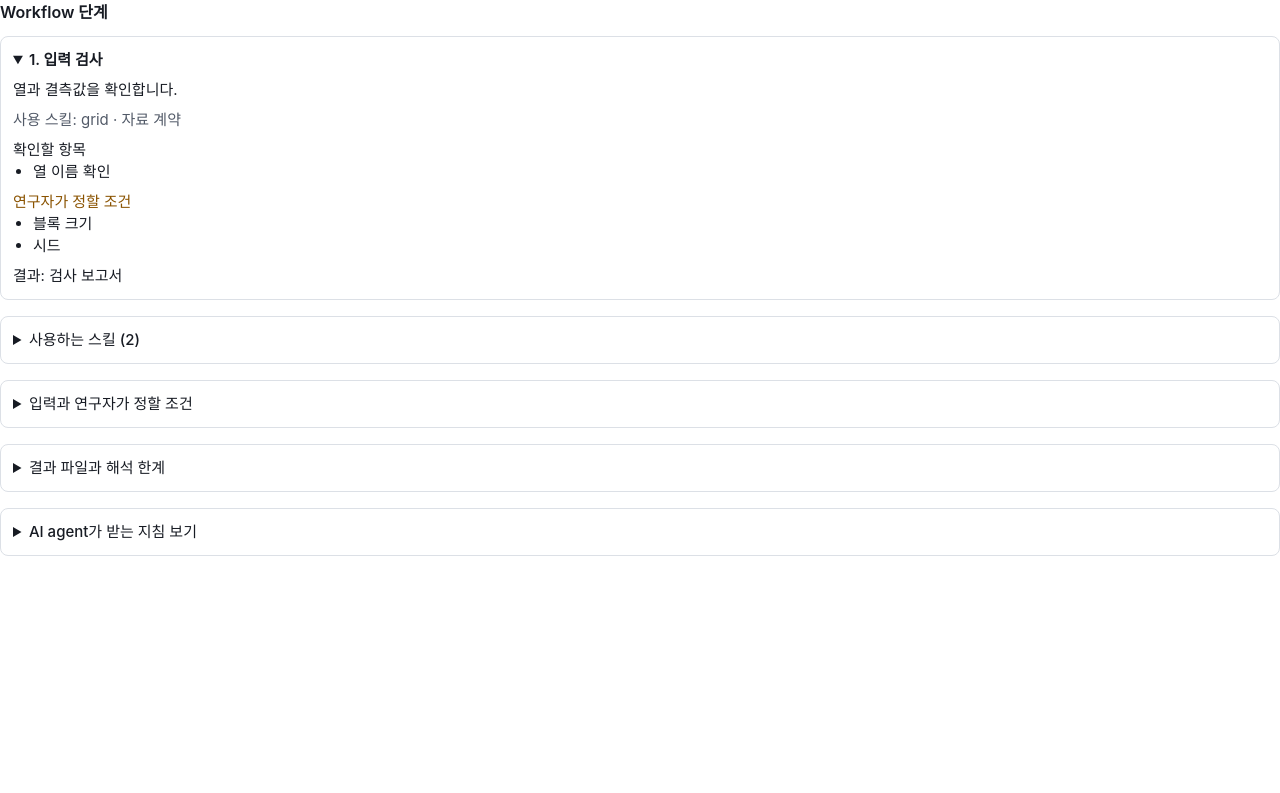
Scenario: shows all steps, skills with sources, choice options and output files; reads the bundled instructions on request
The width and height of the screenshot is (1280, 793).
Expected: the heading "1. 입력 검사" is shown, [29, 50, 102, 69]
Expected: the list item "열 이름 확인" is shown, [33, 162, 110, 181]
Click the heading "사용하는 스킬 (2)".
click(84, 340)  # box [29, 330, 140, 349]
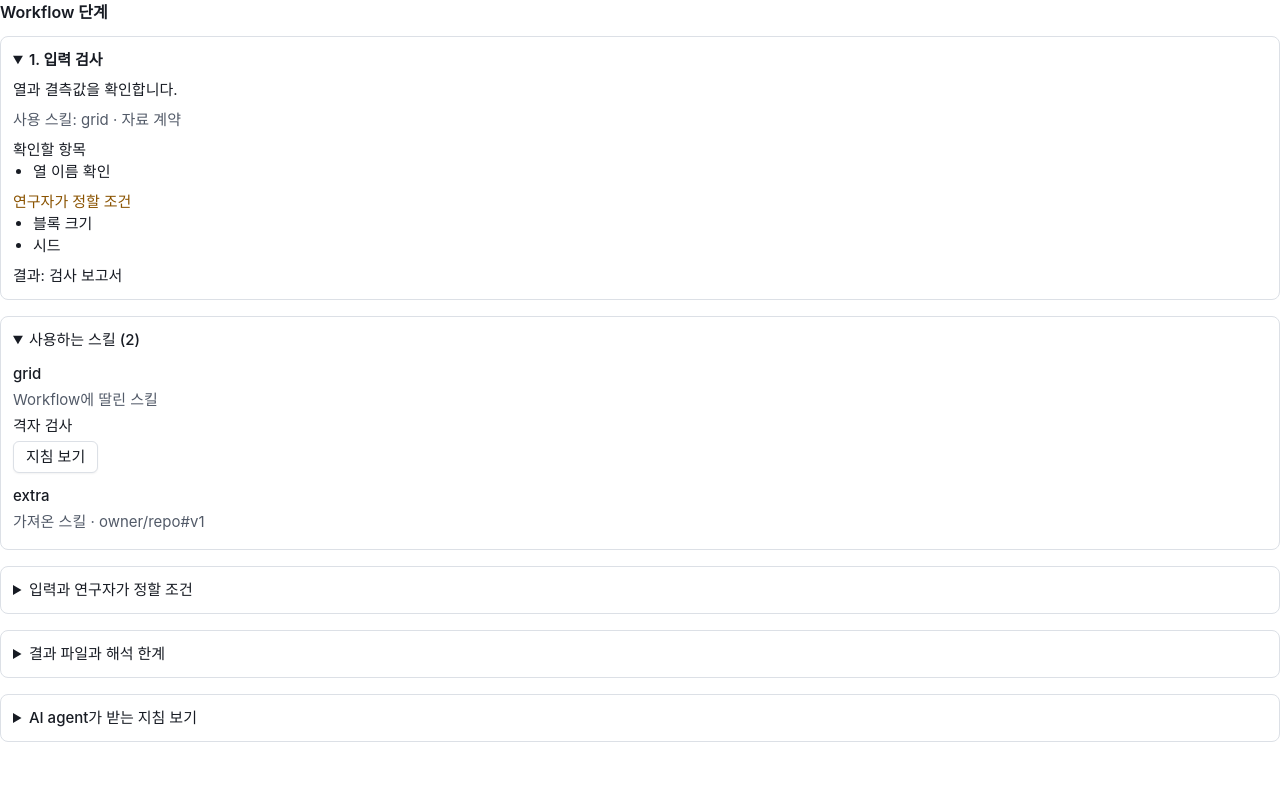
Expected: the text "Workflow에 딸린 스킬" is shown, [13, 390, 158, 409]
Expected: the text "가져온 스킬 · owner/repo#v1" is shown, [13, 512, 204, 531]
Click the button "지침 보기".
click(56, 457)  # box [13, 441, 98, 473]
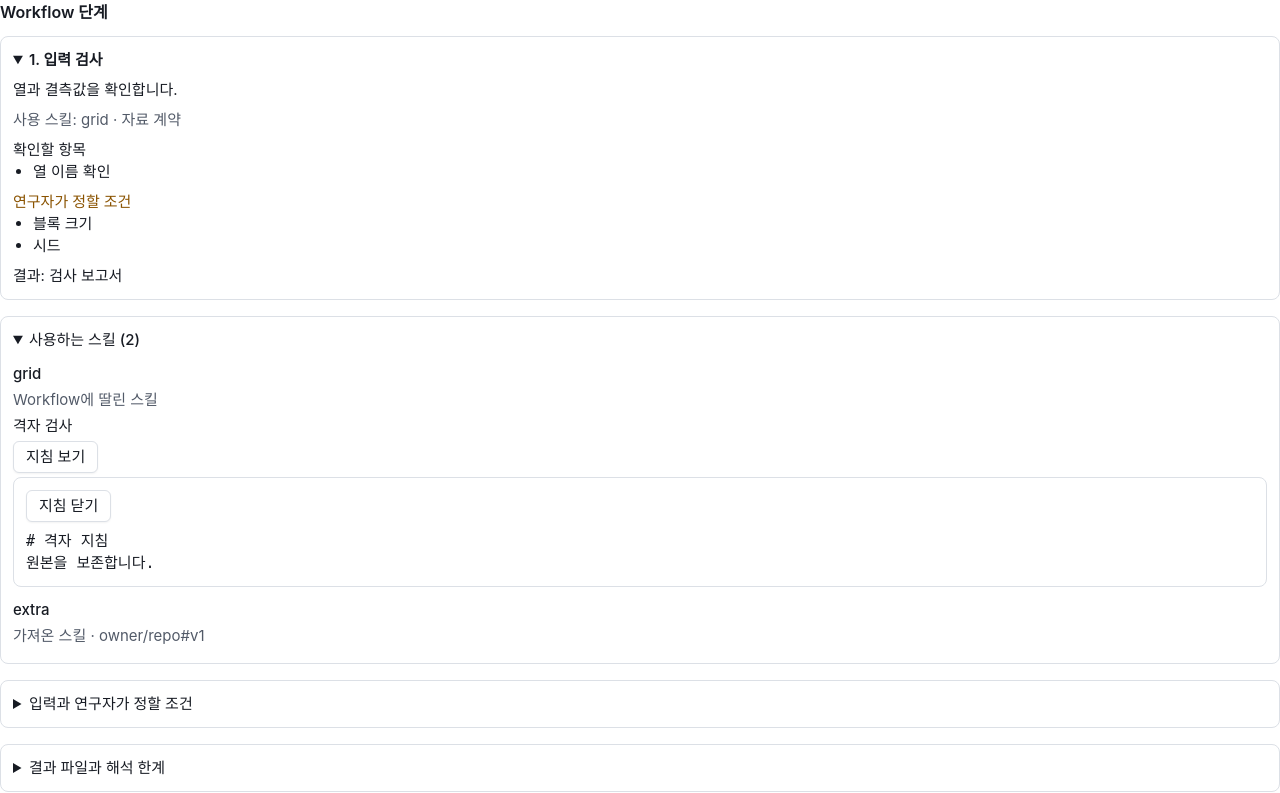
Expected: the text named "SKILL.md" shows "원본을 보존합니다.", [26, 532, 154, 572]
Click the heading "입력과 연구자가 정할 조건".
click(111, 704)  # box [29, 694, 193, 713]
(page scrolled)
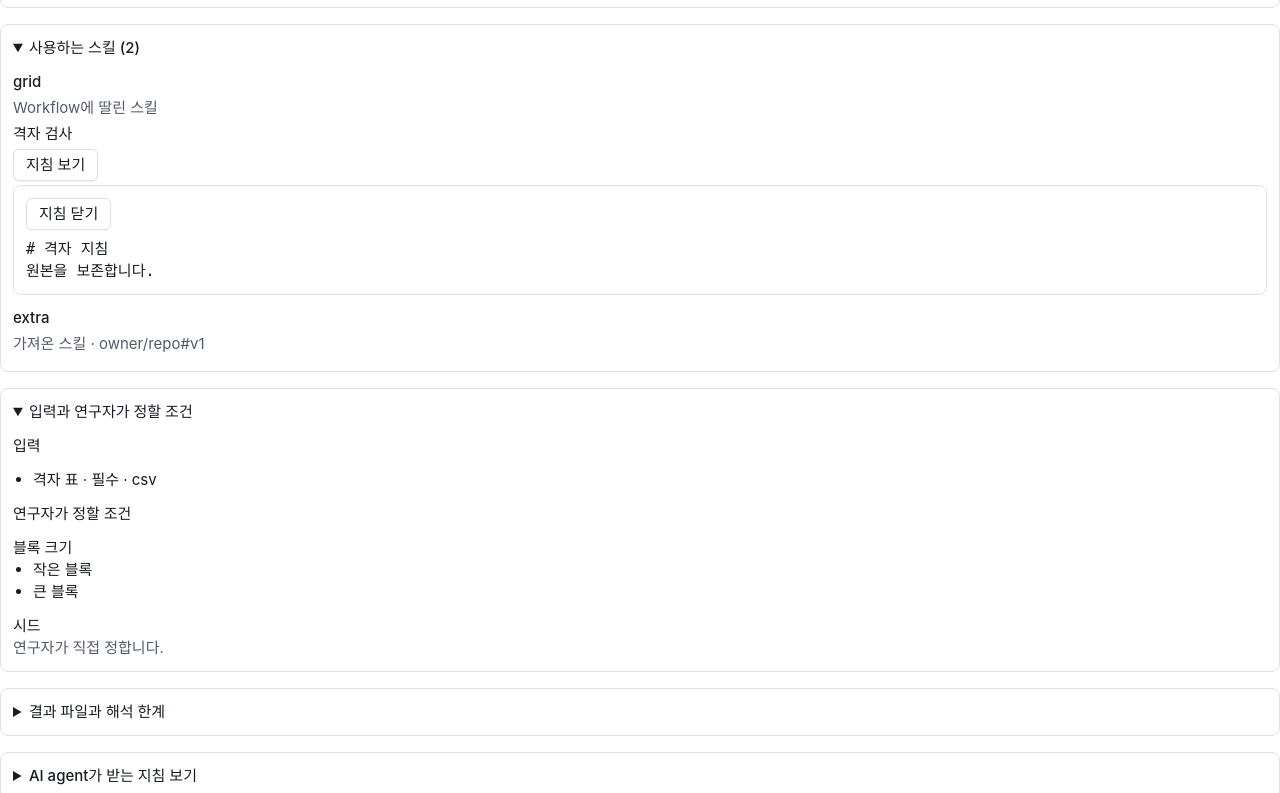
Expected: the list item "작은 블록" is shown, [33, 560, 92, 579]
Expected: the list item "큰 블록" is shown, [33, 582, 79, 601]
Click the heading "결과 파일과 해석 한계".
click(97, 712)  # box [29, 702, 165, 721]
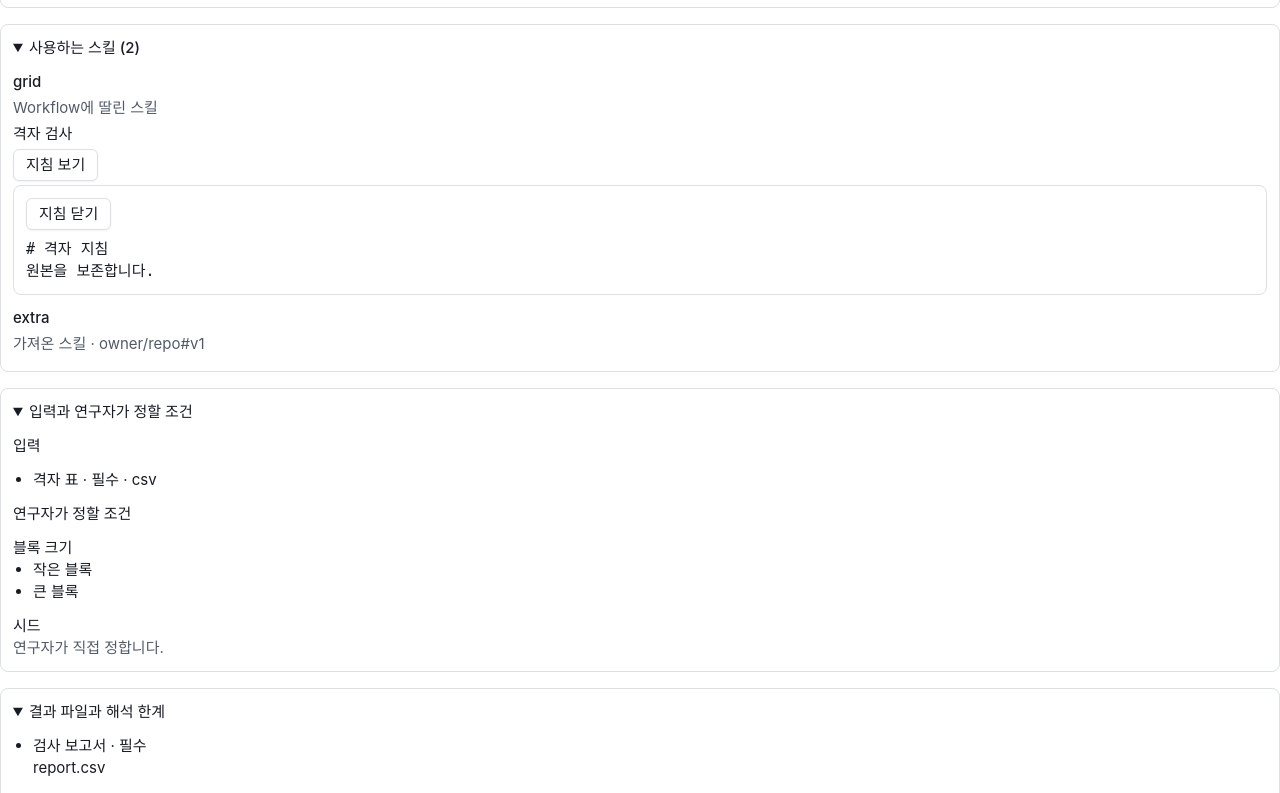
Expected: the text "report.csv" is shown, [33, 758, 105, 777]
